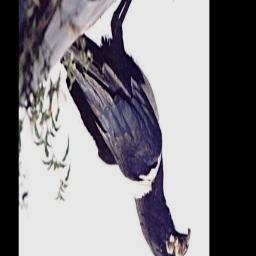Crow: (55, 0, 192, 256)
